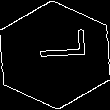L_W: (26, 38, 84, 72)
